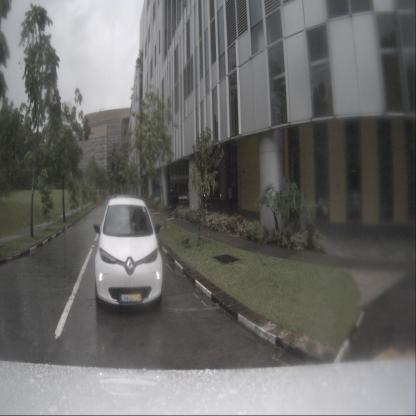human-pedestrian-adult: (227, 184, 234, 210)
vehicle-car: (95, 197, 162, 306)
